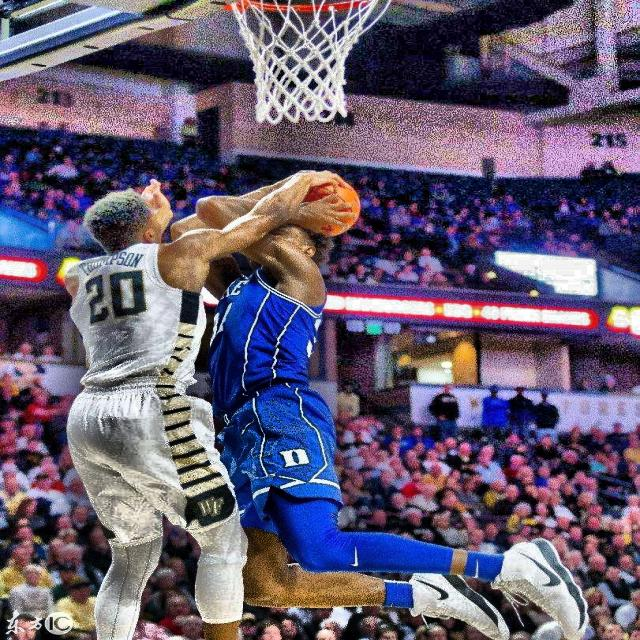rim: (232, 0, 392, 125)
